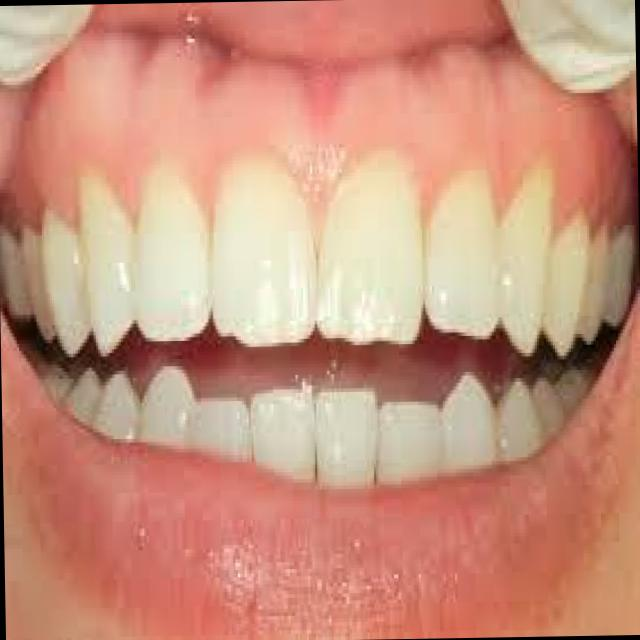Tooth: (209, 159, 317, 350), (316, 157, 423, 348), (132, 164, 210, 344), (420, 170, 499, 336), (77, 176, 138, 356), (498, 165, 554, 356), (542, 204, 589, 359), (40, 210, 90, 353), (248, 392, 317, 486), (316, 391, 377, 493), (436, 371, 495, 473), (377, 398, 439, 484), (137, 369, 196, 452), (493, 381, 547, 461), (190, 397, 253, 462), (92, 370, 139, 442), (155, 513, 173, 521)
